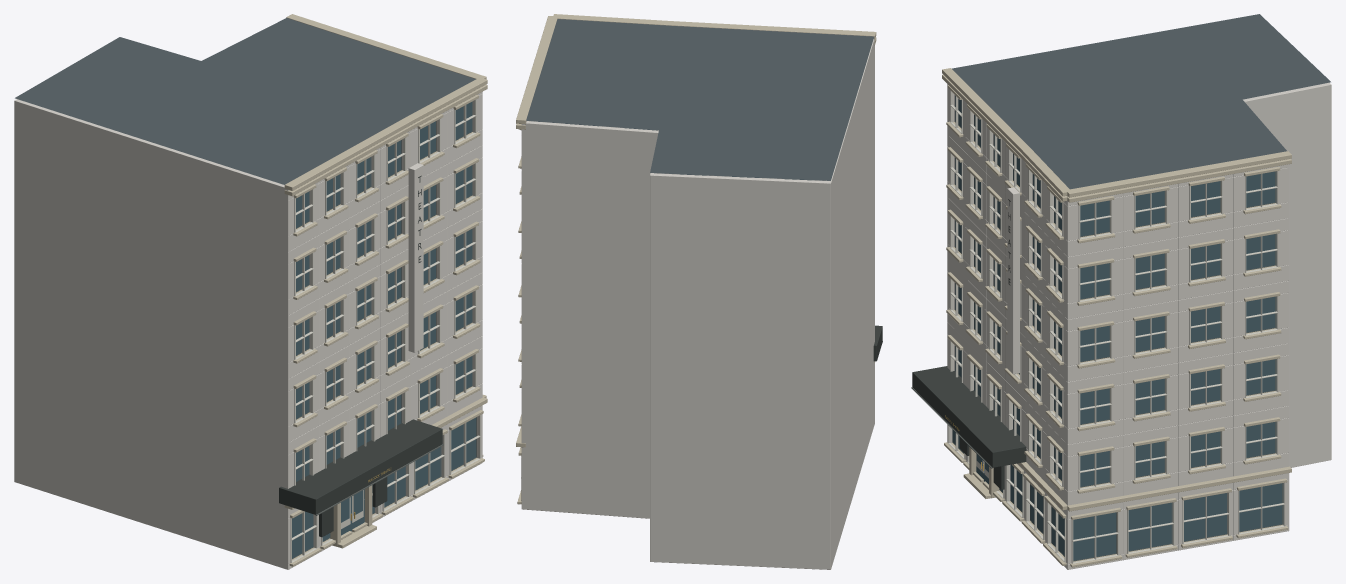
Rendered from pea-exterior-b39a1e5765f8.glb.
3 views of the same model, side by side, from view 1: azimuth 30°, elevation 25°; view 2: azimuth 150°, elevation 25°; view 3: azimuth 270°, elevation 25° (orthographic). The views are drawn at different scales.
Visible parts, largest first — view 1: PEA.001; view 2: PEA.001; view 3: PEA.001.
Boxes of the visible parts, x1=… form: PEA.001: x1=14, y1=14, x2=487, y2=569; PEA.001: x1=516, y1=14, x2=882, y2=569; PEA.001: x1=911, y1=14, x2=1331, y2=569.
Size of the model in its own units: 20.09 by 19.65 by 19.77.
